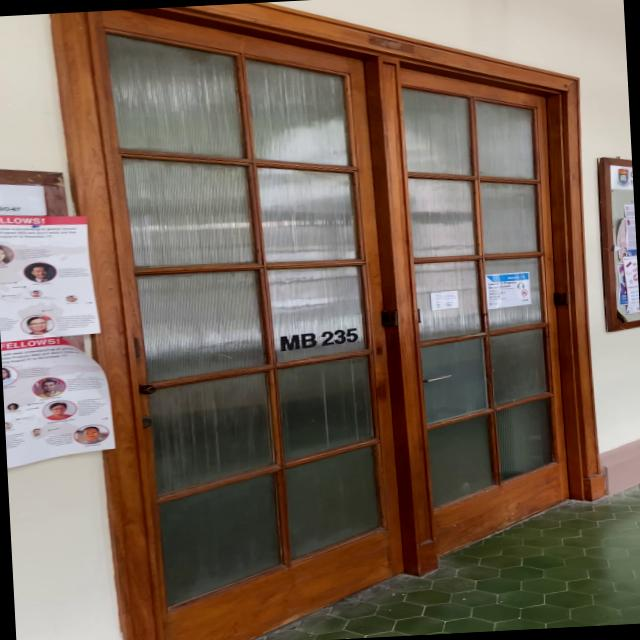room235Window: (274, 324, 362, 354)
